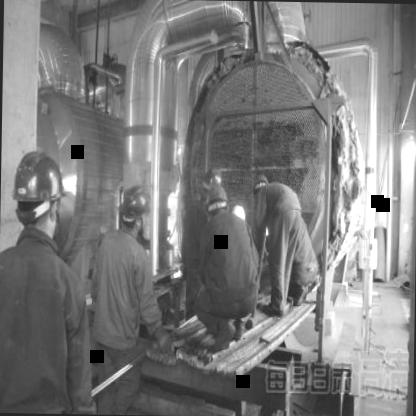helmet: (9, 142, 70, 238), (119, 180, 150, 236), (206, 184, 228, 225), (204, 163, 226, 195), (252, 170, 269, 198)
